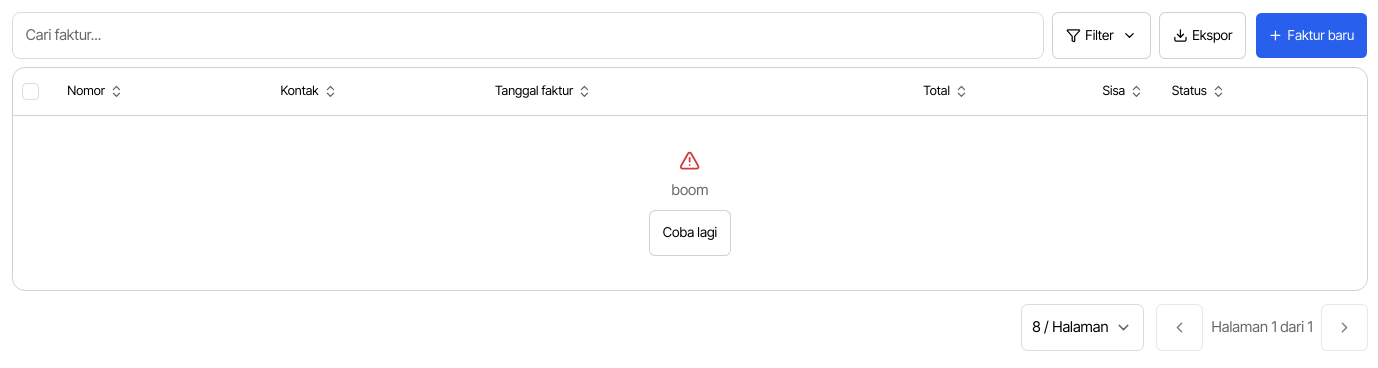
Test: InvoicesSection extra2 › shows the error state with retry and refetches
Check: the text "boom" is shown, box [672, 180, 708, 201]
Click the button "Coba lagi": (690, 233) [649, 210, 731, 256]
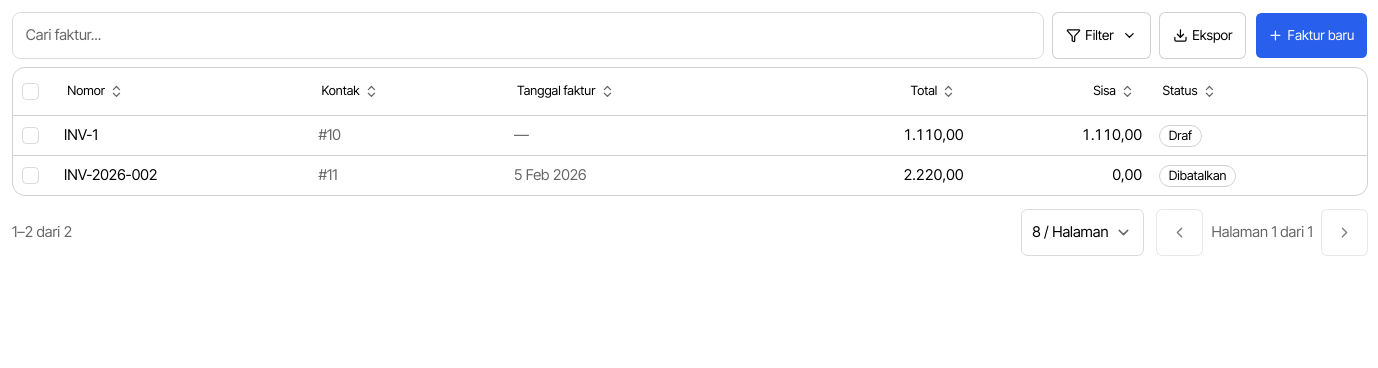
Check: the link "INV-2026-002" is shown, box [64, 166, 157, 184]
